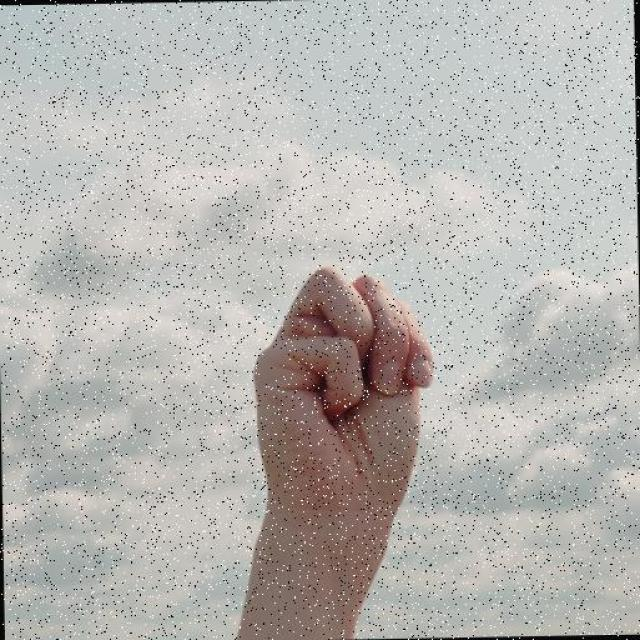M: (248, 262, 438, 527)
